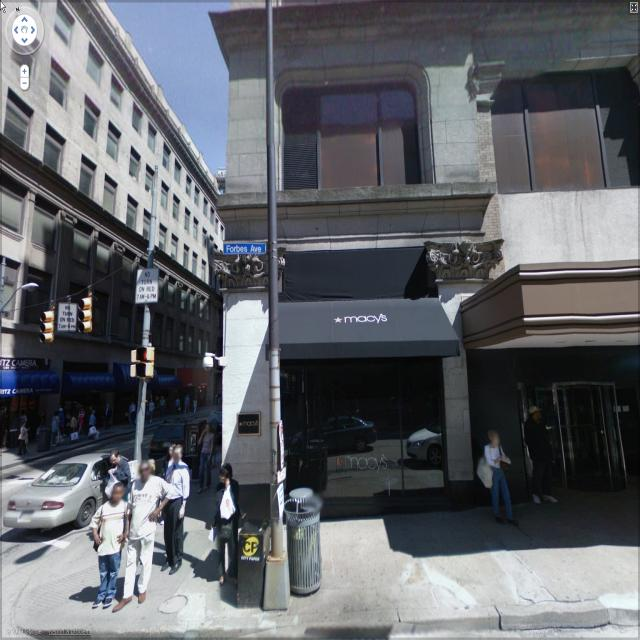b_1: (221, 17, 633, 513), (0, 1, 220, 435)
